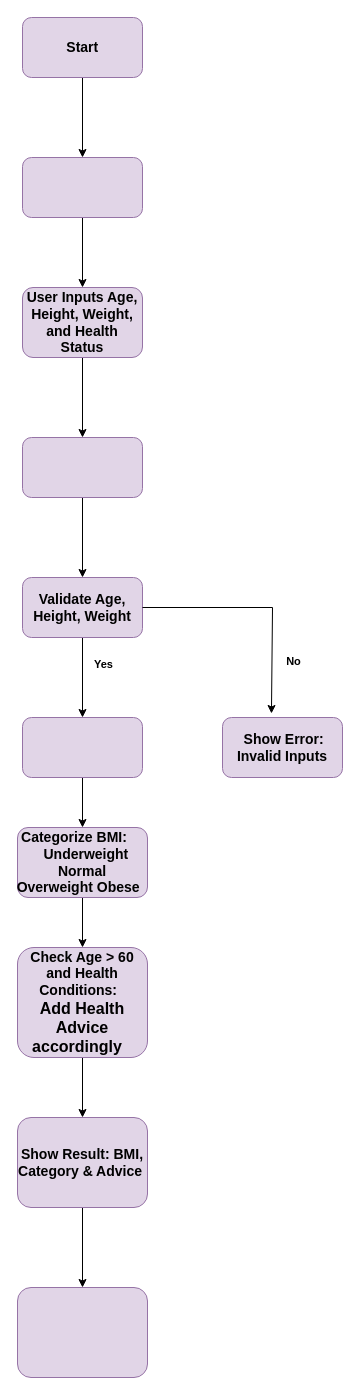
This 360x1395 diagram has some shape labels left out. The centre of each missing label's shape, as x and y in pixels:
Calculate BMI Value: [82,747]
Click "Calculate BMI" Btn: [82,467]
End: [82,1332]
Load BMI Calculator Page: [82,187]
